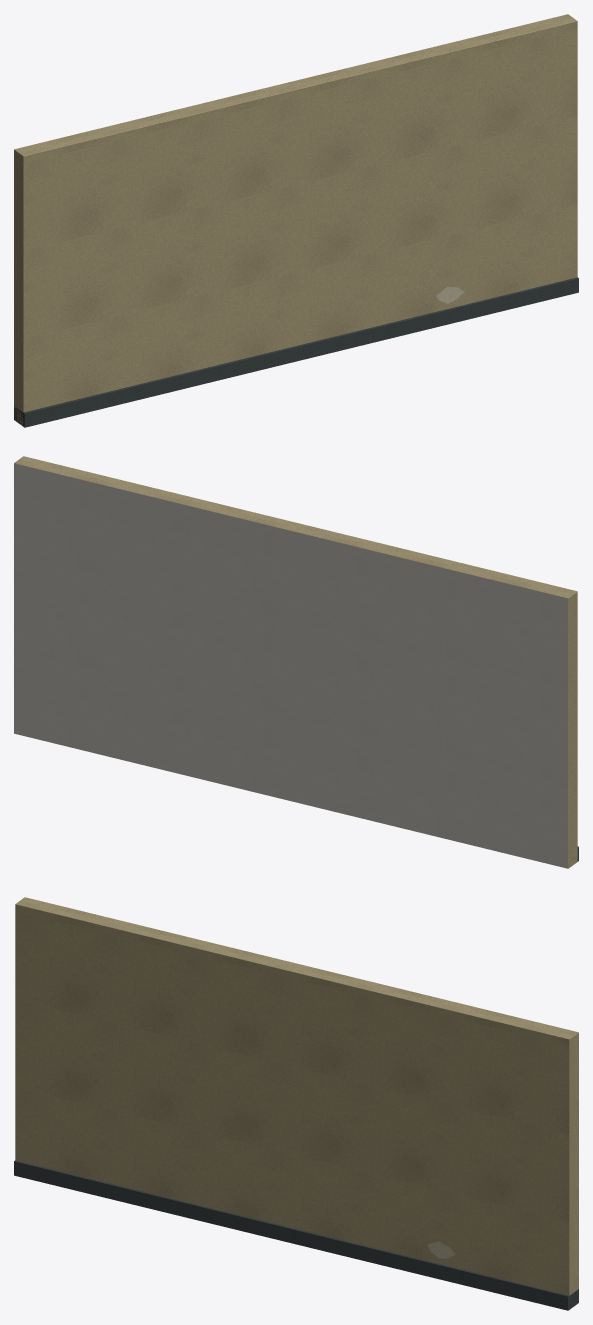
The model's file is end_wall_6m_105_v3.glb.
The picture shows the model from 3 angles, top to bottom: view 1: azimuth 30°, elevation 25°; view 2: azimuth 150°, elevation 25°; view 3: azimuth 330°, elevation 25°; orthographic projection.
Parts seen in each view (by area): view 1: INSTANCE__end_wall_6m__105; view 2: INSTANCE__end_wall_6m__105; view 3: INSTANCE__end_wall_6m__105.
Boxes of the visible parts, box(x1,y1,x2,y2) form: INSTANCE__end_wall_6m__105: box(14, 14, 578, 427); INSTANCE__end_wall_6m__105: box(14, 456, 578, 868); INSTANCE__end_wall_6m__105: box(14, 897, 578, 1310).
Size of the model in its own units: 6 by 2.8 by 0.203.
Materials: 4 (4 with a texture image).
